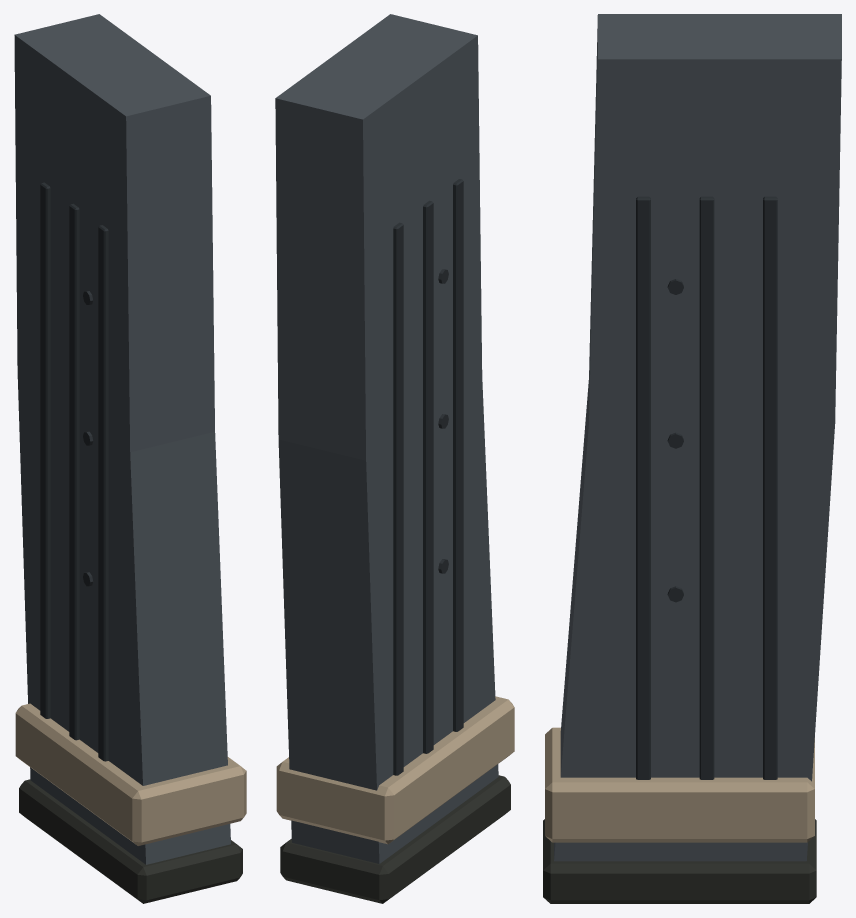
Rendered from att_mag_badger556_extended.glb.
3 renders of one model, left to right at view 1: azimuth 30°, elevation 25°; view 2: azimuth 150°, elevation 25°; view 3: azimuth 270°, elevation 25°, orthographic. The views are drawn at different scales.
Parts seen in each view (by area): view 1: Geometry_att_mag_badger556_extended; view 2: Geometry_att_mag_badger556_extended; view 3: Geometry_att_mag_badger556_extended.
Boxes of the visible parts, x1=… form: Geometry_att_mag_badger556_extended: x1=14, y1=14, x2=246, y2=903; Geometry_att_mag_badger556_extended: x1=275, y1=14, x2=514, y2=903; Geometry_att_mag_badger556_extended: x1=543, y1=14, x2=841, y2=903.
Size of the model in its own units: 0.039 by 0.2514 by 0.0808.
